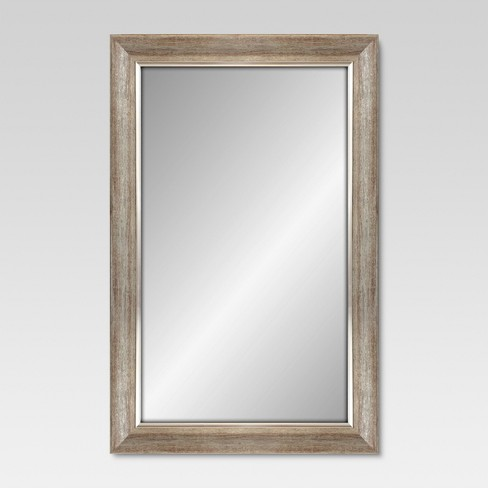Nonrec_Glass: (93, 23, 407, 467)
